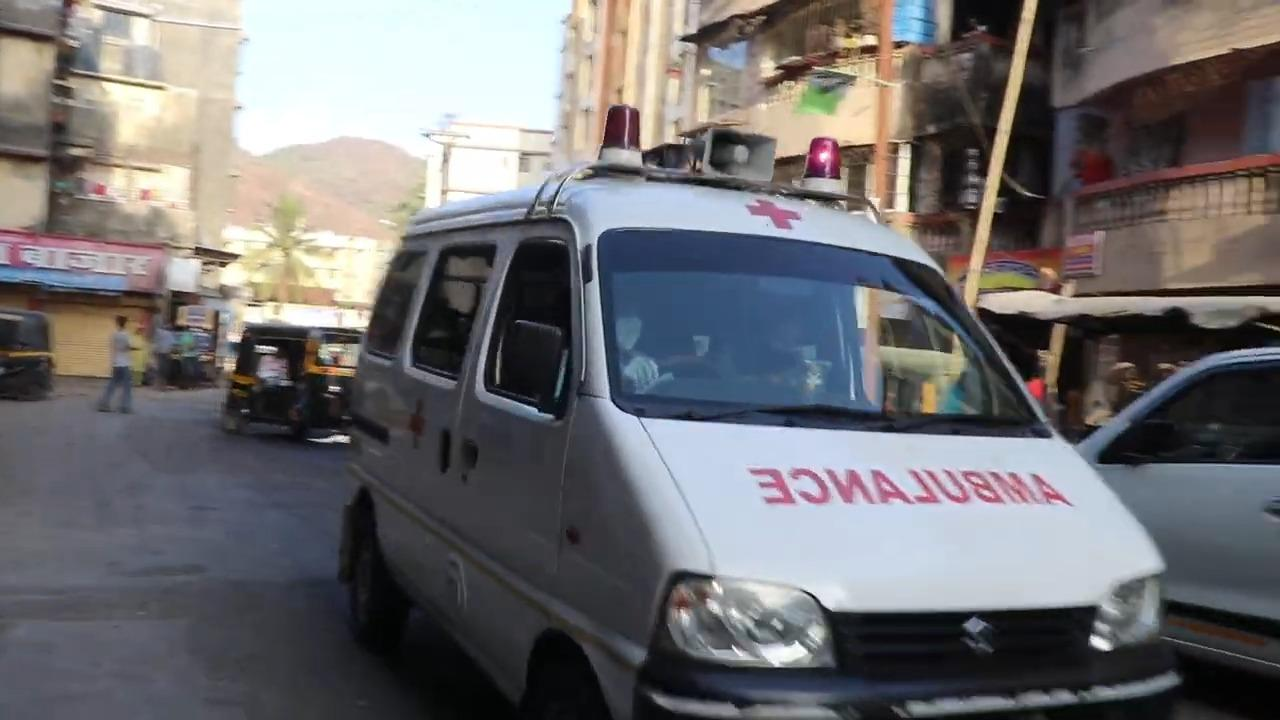ambulance: (282, 146, 1186, 716)
